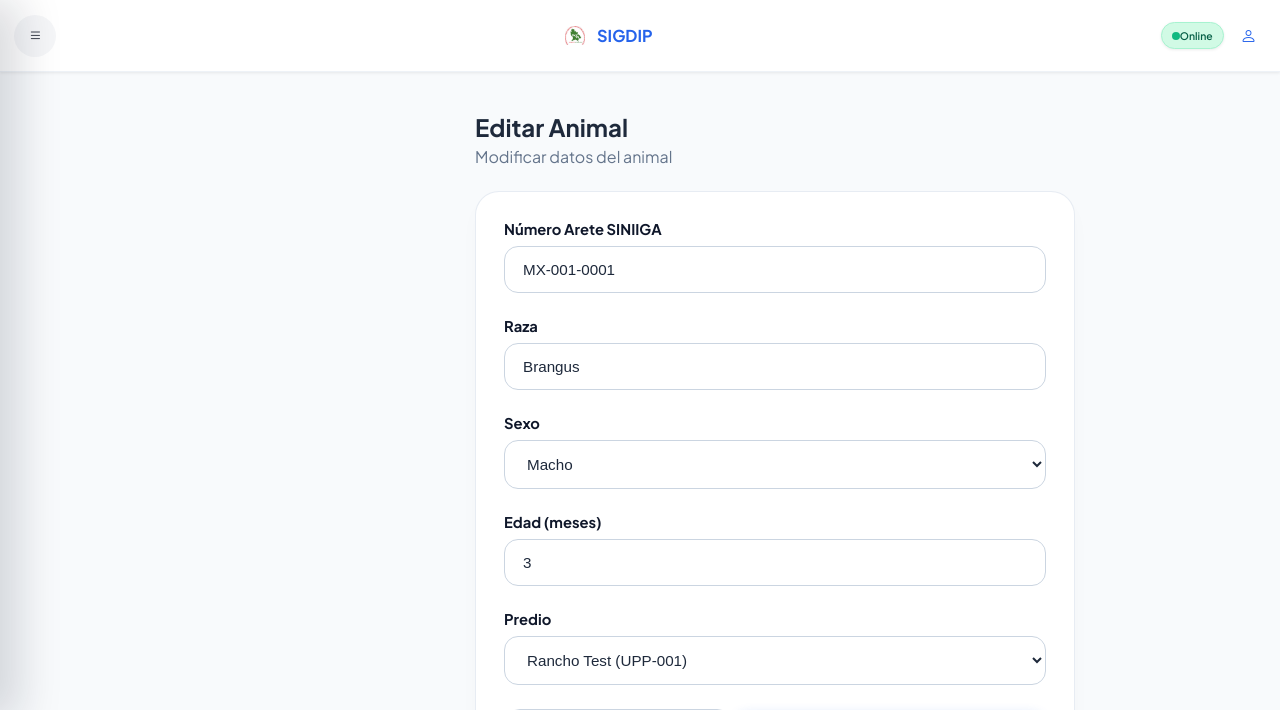
Scenario: Animales CRUD Flow (E2E) › edita un animal exitosamente
The width and height of the screenshot is (1280, 710).
Expected: the field below "Número Arete SINIIGA" holds "MX-001-0001", [504,246,1046,293]
Replace the text in the field below "Raza" with "Angus" at (775, 367), box [504,343,1046,390]
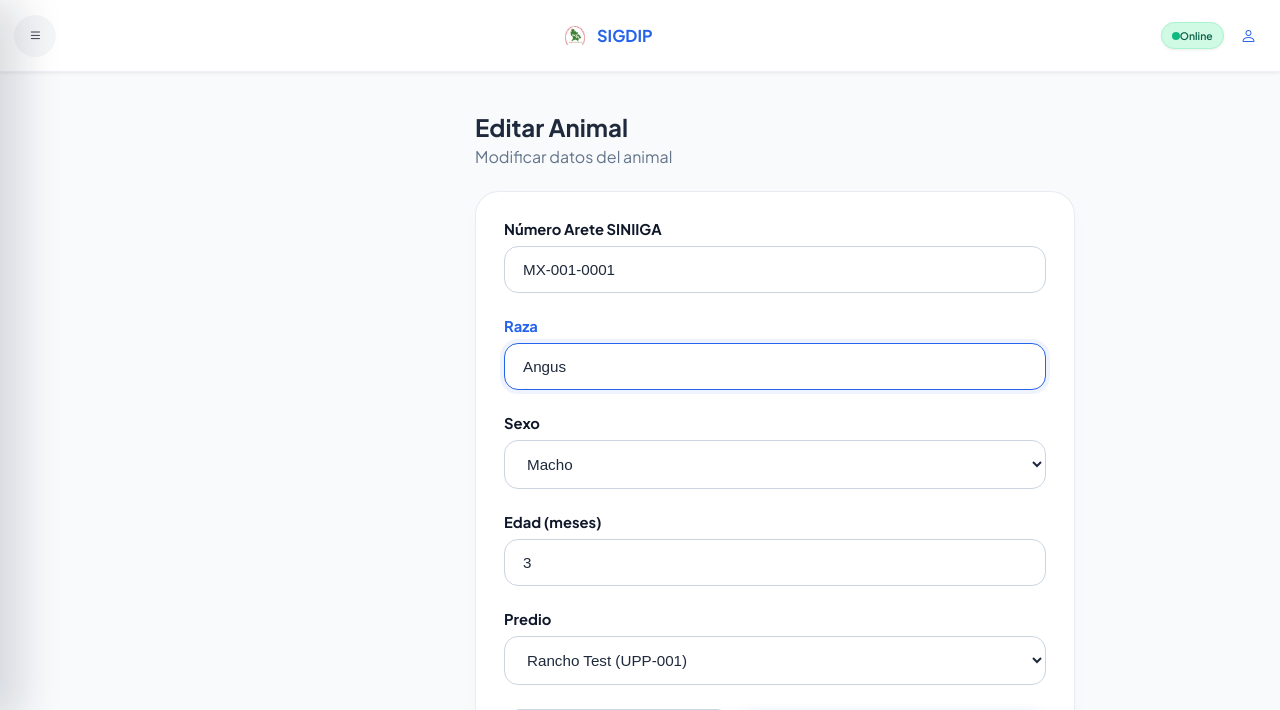
Scroll
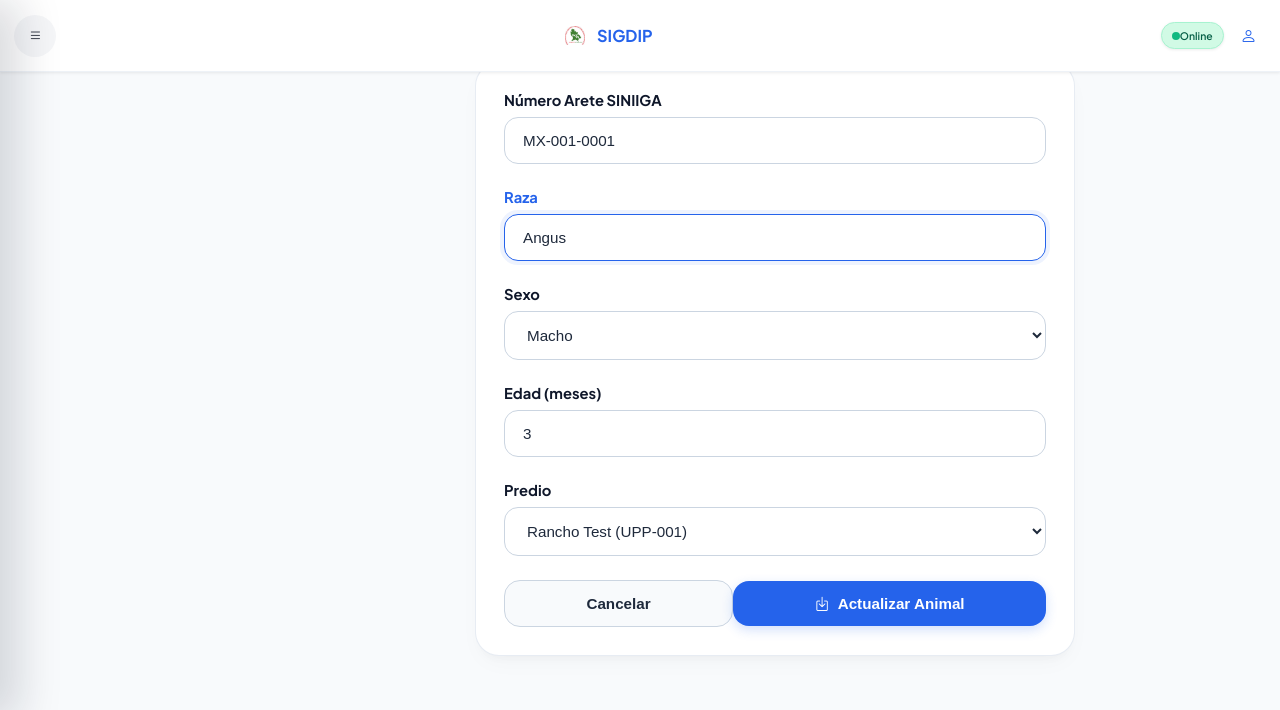
Click the button "Actualizar Animal" at (890, 604), box [733,581,1046,626]
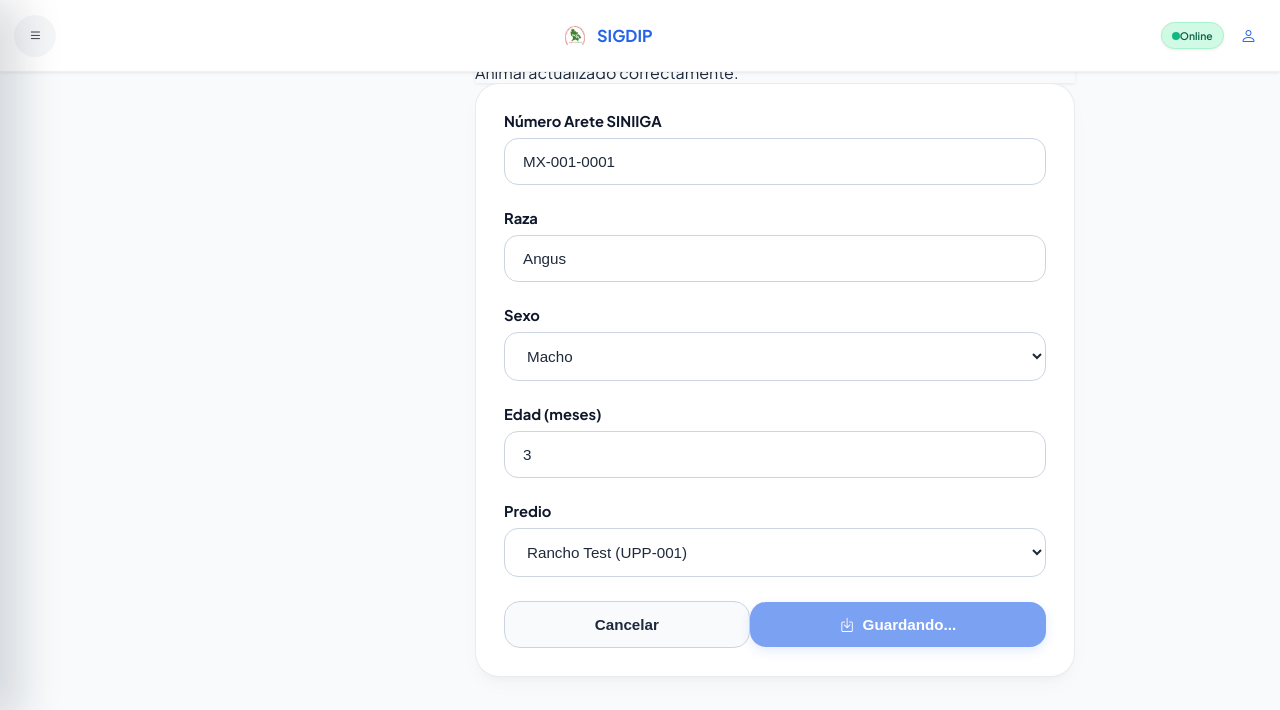
Expected: the text with class "alert-success" reads "Animal actualizado correctamente.", [475,62,739,83]
